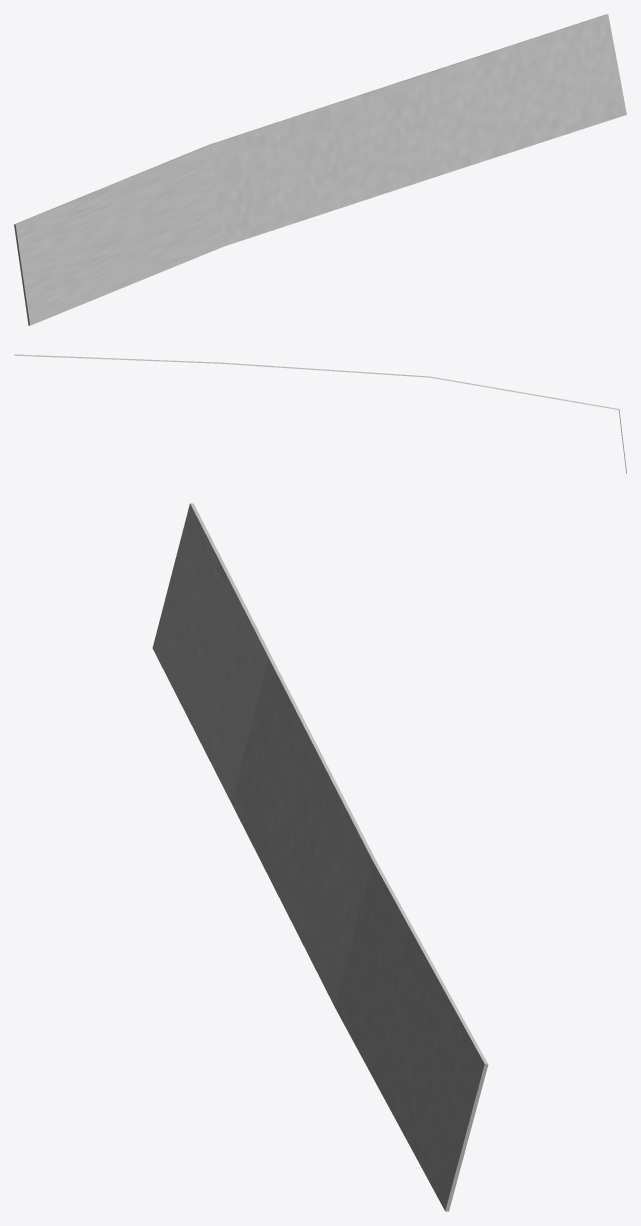
The model's file is Decor_Pocket_Left_V1.glb.
3 views of the same model, one above another, from view 1: azimuth 30°, elevation 25°; view 2: azimuth 150°, elevation 25°; view 3: azimuth 270°, elevation 25° (orthographic). The views are drawn at different scales.
Visible parts, largest first — view 1: Decor_Pocket_Left_V11; view 2: Decor_Pocket_Left_V11; view 3: Decor_Pocket_Left_V11.
Part boxes in pixels (bbox=[...]): Decor_Pocket_Left_V11: bbox=[14, 14, 626, 325]; Decor_Pocket_Left_V11: bbox=[14, 354, 626, 473]; Decor_Pocket_Left_V11: bbox=[152, 503, 488, 1211].
Bounding box in the file's own units: 0.0476 × 0.00837 × 0.0129.
1 material, 1 textured.
